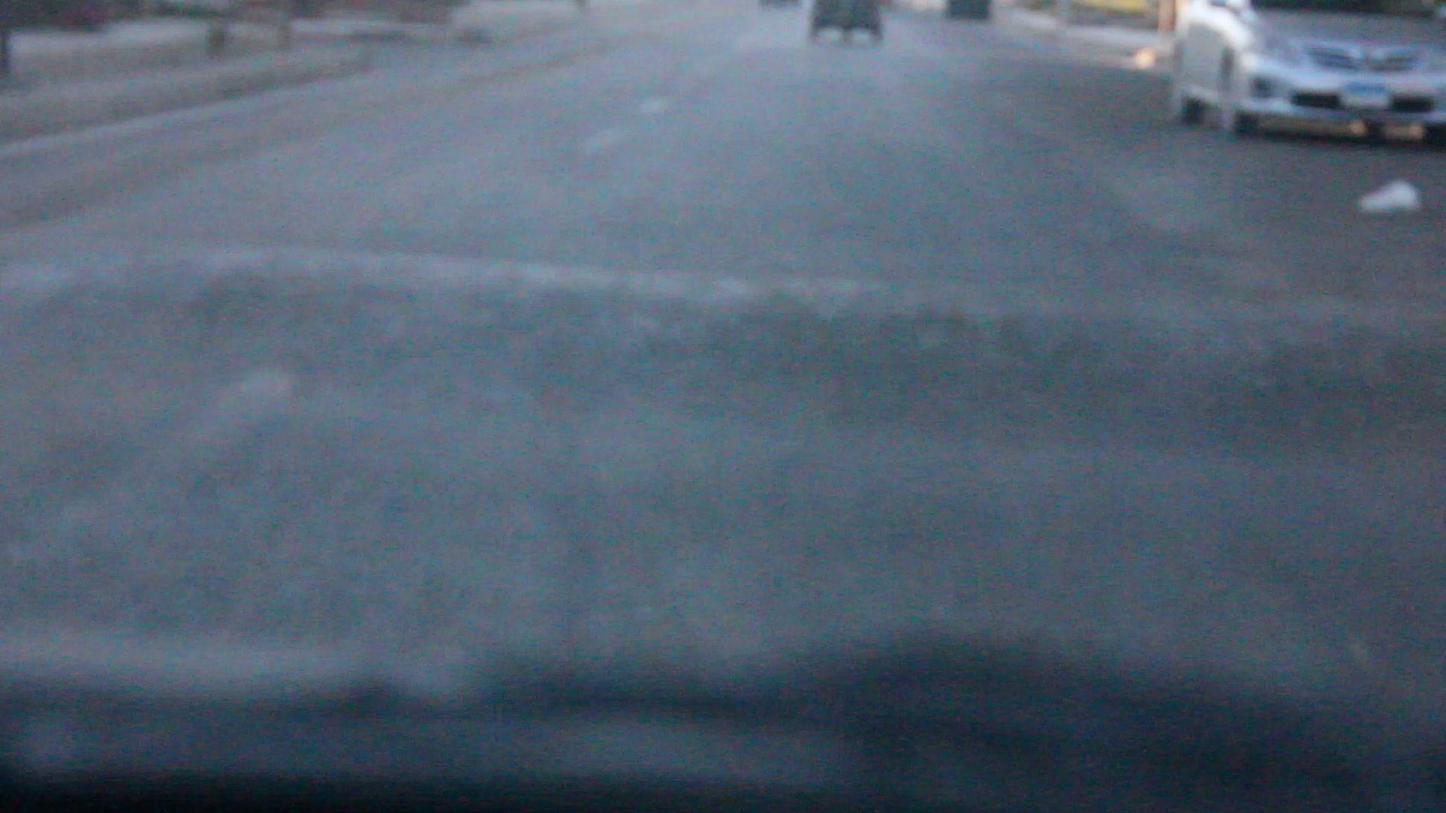Bump: (4, 227, 1445, 466)
